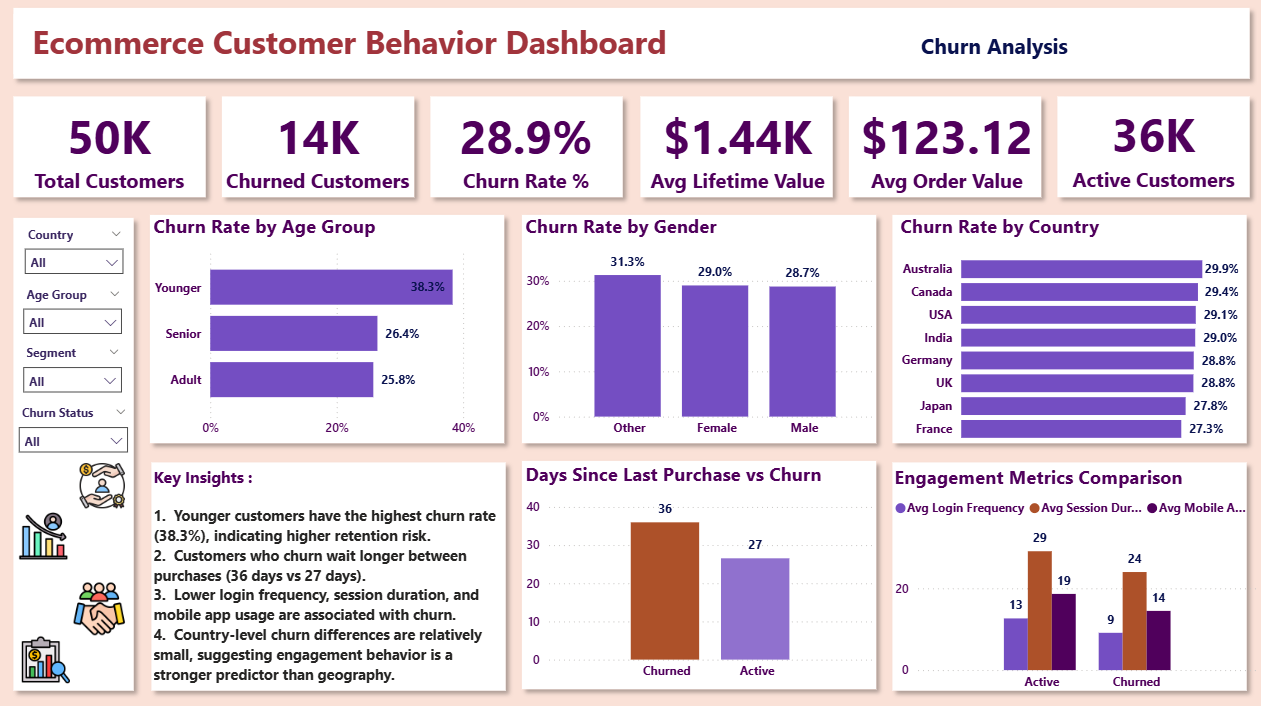

Layout of this report page (visuals, bound fields, positions):
{"tool":"powerbi","page":{"name":"Churn Analysis","canvas":[1280,720],"ordinal":1},"visuals":[{"type":"shape","box":[7.6,0,1265.9,89.3],"z":0},{"type":"shape","box":[850.7,89.3,212,119.6],"z":1000},{"type":"textbox","box":[16.7,15.1,678.4,60.6],"z":2000},{"type":"shape","box":[429.1,89.3,212,119.6],"z":3000},{"type":"shape","box":[639.9,89.3,212,119.6],"z":4000},{"type":"shape","box":[1061.5,89.3,212,119.6],"z":5000},{"type":"shape","box":[7.6,212,139.3,495.1],"z":6000},{"type":"shape","box":[145.9,209,375.5,248.3],"z":7000},{"type":"shape","box":[7.6,89.3,212,119.6],"z":8000},{"type":"shape","box":[218.4,89.3,212,119.6],"z":9000},{"type":"card","fields":{"Values":["customer_behavior.Total Customer"]},"box":[16.7,96.9,192.3,106],"z":10000},{"type":"card","fields":{"Values":["customer_behavior.Churned Customers"]},"box":[221.1,96.9,204.4,106],"z":11000},{"type":"card","fields":{"Values":["customer_behavior.Churn Rate %"]},"box":[431.5,96.9,204.4,106],"z":12000},{"type":"card","fields":{"Values":["customer_behavior.Avg Lifetime Value"]},"box":[645.1,96.9,204.4,106],"z":13000},{"type":"card","fields":{"Values":["customer_behavior.Avg Order Value"]},"box":[855.5,96.9,205.9,106],"z":14000},{"type":"card","fields":{"Values":["customer_behavior.Active Customers"]},"box":[1064.2,94.7,205.3,105.8],"z":15000},{"type":"shape","box":[520.4,209,375.5,248.3],"z":16000},{"type":"shape","box":[894.9,209,375.5,248.3],"z":17000},{"type":"textbox","box":[885.8,27.3,242.3,48.5],"z":18000},{"type":"slicer","fields":{"Values":["customer_behavior.Country"]},"box":[18.2,224.1,119.6,60.6],"z":19000},{"type":"slicer","fields":{"Values":["customer_behavior.Age Group"]},"box":[16.7,284.7,119.6,60.6],"z":20000},{"type":"slicer","fields":{"Values":["customer_behavior.Customer Segment"]},"box":[16.3,343.3,119,61.4],"z":21000},{"type":"slicer","fields":{"Values":["customer_behavior.Churn Status"]},"box":[12.1,404.3,130.2,66.6],"z":22000},{"type":"image","box":[77.2,460.3,57.5,62.1],"z":23000},{"type":"image","box":[71.2,583,63.6,65.1],"z":24000},{"type":"image","box":[15.1,511.8,63.6,60.6],"z":25000},{"type":"image","box":[19.7,637.5,59.1,59.1],"z":26000},{"type":"shape","box":[146.9,458.8,375.5,248.3],"z":27000},{"type":"shape","box":[520.9,457.3,375.5,248.3],"z":28000},{"type":"shape","box":[894.9,458.8,375.5,248.3],"z":29000},{"type":"clusteredBarChart","title":"Churn Rate by Age Group","fields":{"Category":["customer_behavior.Age Group"],"Y":["customer_behavior.Churn Rate %"]},"box":[152.9,216.5,361.9,234.7],"z":30000},{"type":"columnChart","title":"Churn Rate by Gender","fields":{"Category":["customer_behavior.Gender"],"Y":["customer_behavior.Churn Rate %"]},"box":[528.5,216.5,361.9,234.7],"z":31000},{"type":"clusteredBarChart","title":"Churn Rate by Country","fields":{"Y":["customer_behavior.Churn Rate %"],"Category":["customer_behavior.Country"]},"box":[907,216.5,351.3,240.8],"z":32000},{"type":"clusteredColumnChart","title":"Days Since Last Purchase vs Churn","fields":{"Category":["customer_behavior.Churn Status"],"Y":["Avg(customer_behavior.Days_Since_Last_Purchase)"]},"box":[528.5,466.4,361.9,230.2],"z":33000},{"type":"clusteredColumnChart","title":"Engagement Metrics Comparison","fields":{"Category":["customer_behavior.Churn Status"],"Y":["Avg(customer_behavior.Login_Frequency)","Avg(customer_behavior.Session_Duration_Avg)","Avg(customer_behavior.Mobile_App_Usage)"]},"box":[901,469.4,378.6,237.7],"z":34000},{"type":"textbox","box":[152.9,466.4,369.5,252.9],"z":35000}]}

Visuals, with their boxes in screenshot pixels (x1, y1, x2, y2), scaled from the page's 1280x720 canvas onto the 1261x706 screenshot:
shape: 7,0,1255,88
shape: 838,88,1047,205
textbox: 16,15,685,74
shape: 423,88,632,205
shape: 630,88,839,205
shape: 1046,88,1255,205
shape: 7,208,145,693
shape: 144,205,514,448
shape: 7,88,216,205
shape: 215,88,424,205
card - customer_behavior.Total Customer: 16,95,206,199
card - customer_behavior.Churned Customers: 218,95,419,199
card - customer_behavior.Churn Rate %: 425,95,626,199
card - customer_behavior.Avg Lifetime Value: 636,95,837,199
card - customer_behavior.Avg Order Value: 843,95,1046,199
card - customer_behavior.Active Customers: 1048,93,1251,197
shape: 513,205,883,448
shape: 882,205,1252,448
textbox: 873,27,1111,74
slicer - customer_behavior.Country: 18,220,136,279
slicer - customer_behavior.Age Group: 16,279,134,339
slicer - customer_behavior.Customer Segment: 16,337,133,397
slicer - customer_behavior.Churn Status: 12,396,140,462
image: 76,451,133,512
image: 70,572,133,635
image: 15,502,78,561
image: 19,625,78,683
shape: 145,450,515,693
shape: 513,448,883,692
shape: 882,450,1252,693
"Churn Rate by Age Group" clusteredBarChart: 151,212,507,442
"Churn Rate by Gender" columnChart: 521,212,877,442
"Churn Rate by Country" clusteredBarChart: 894,212,1240,448
"Days Since Last Purchase vs Churn" clusteredColumnChart: 521,457,877,683
"Engagement Metrics Comparison" clusteredColumnChart: 888,460,1260,693
textbox: 151,457,515,705
